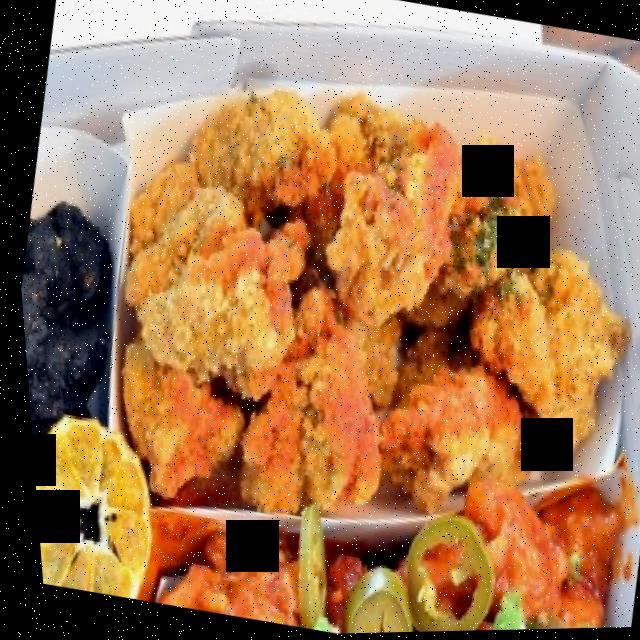Frango: (78, 89, 640, 540)
